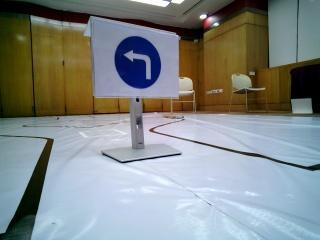left: (95, 18, 178, 98)
